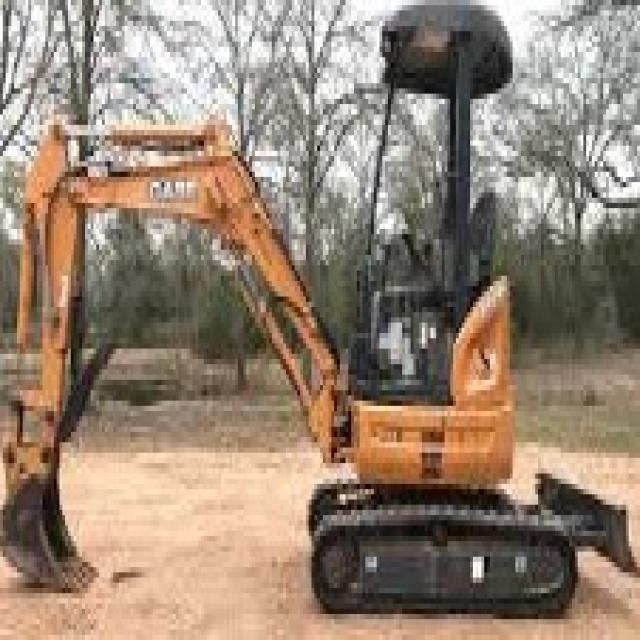excavator: (293, 240, 574, 577)
